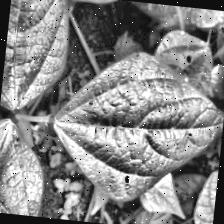Bean Rust: (45, 45, 224, 211), (0, 0, 73, 116), (0, 118, 49, 217)
